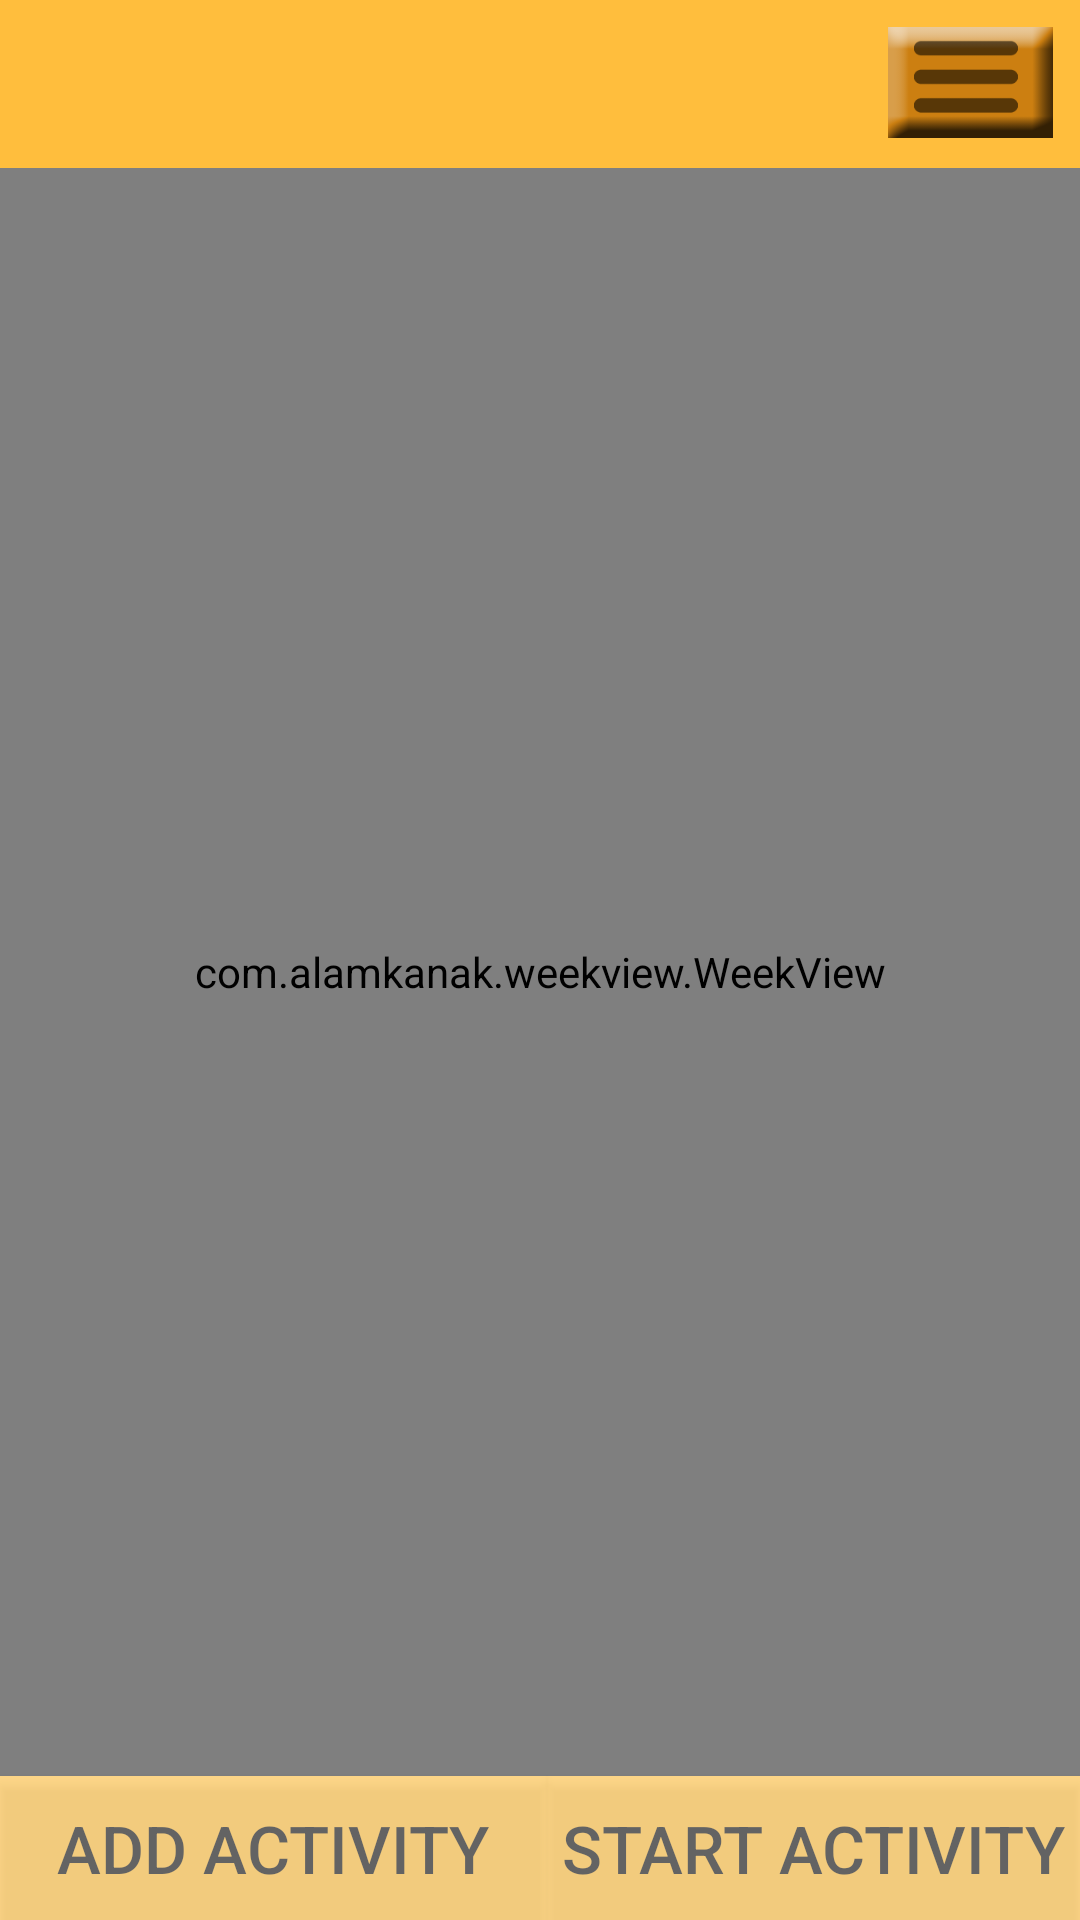

Where icons sit on this 1080px x 1920px app screen, as (x1=x1, y1=y1, x2=x2, y2=y2):
menue action: (x1=888, y1=27, x2=1053, y2=138)
